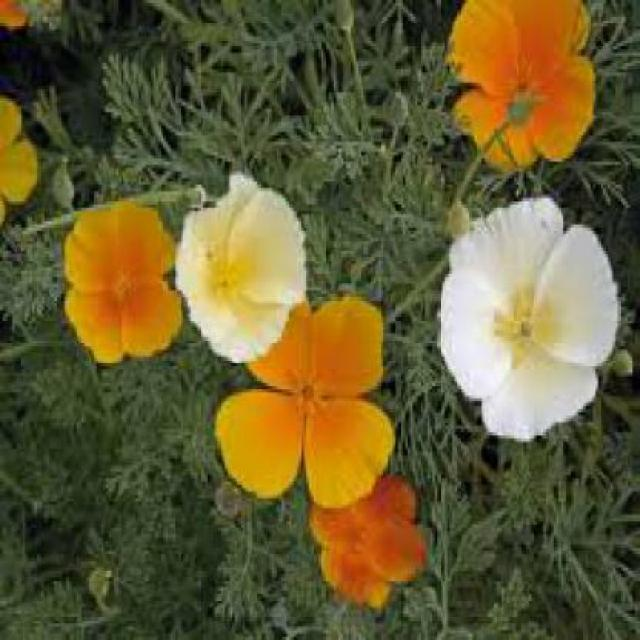Flower: (437, 195, 620, 442), (213, 287, 396, 508), (176, 171, 310, 367), (445, 3, 596, 175), (62, 198, 188, 370), (306, 465, 431, 610)
